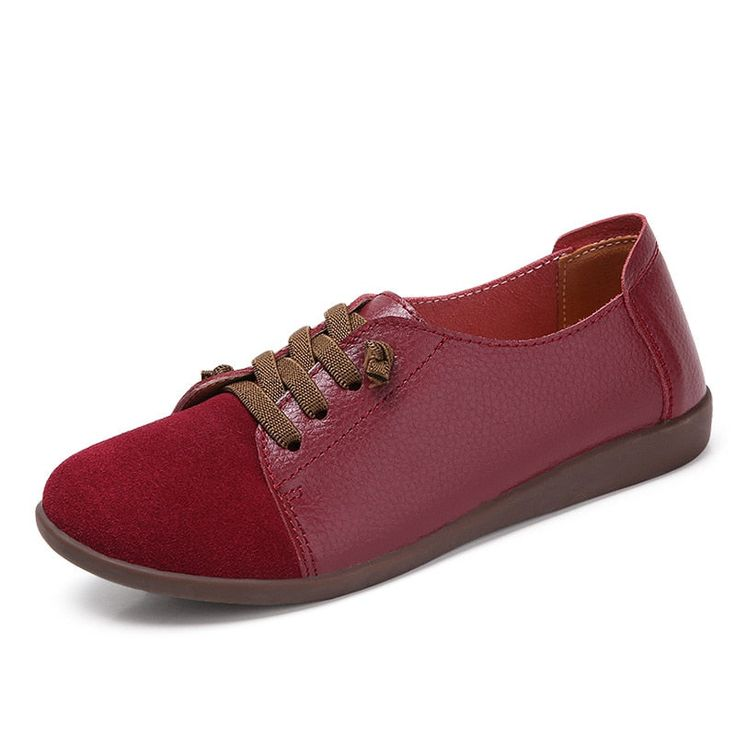gamuza: (42, 391, 304, 581)
